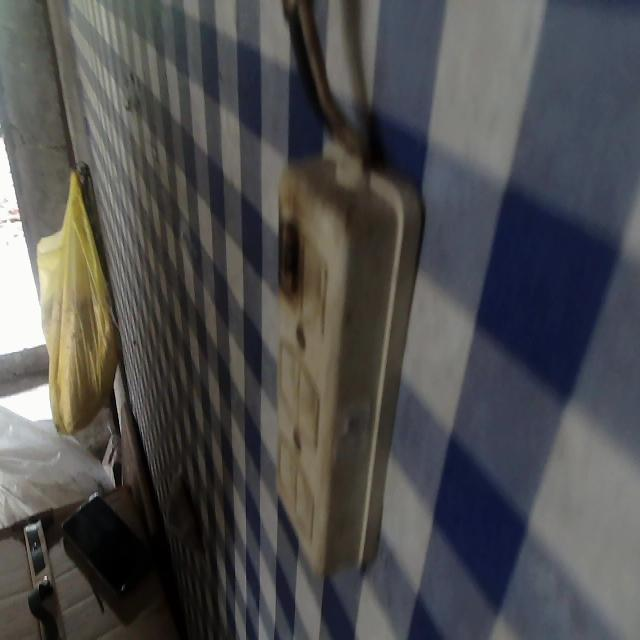-: (275, 213, 305, 310)
